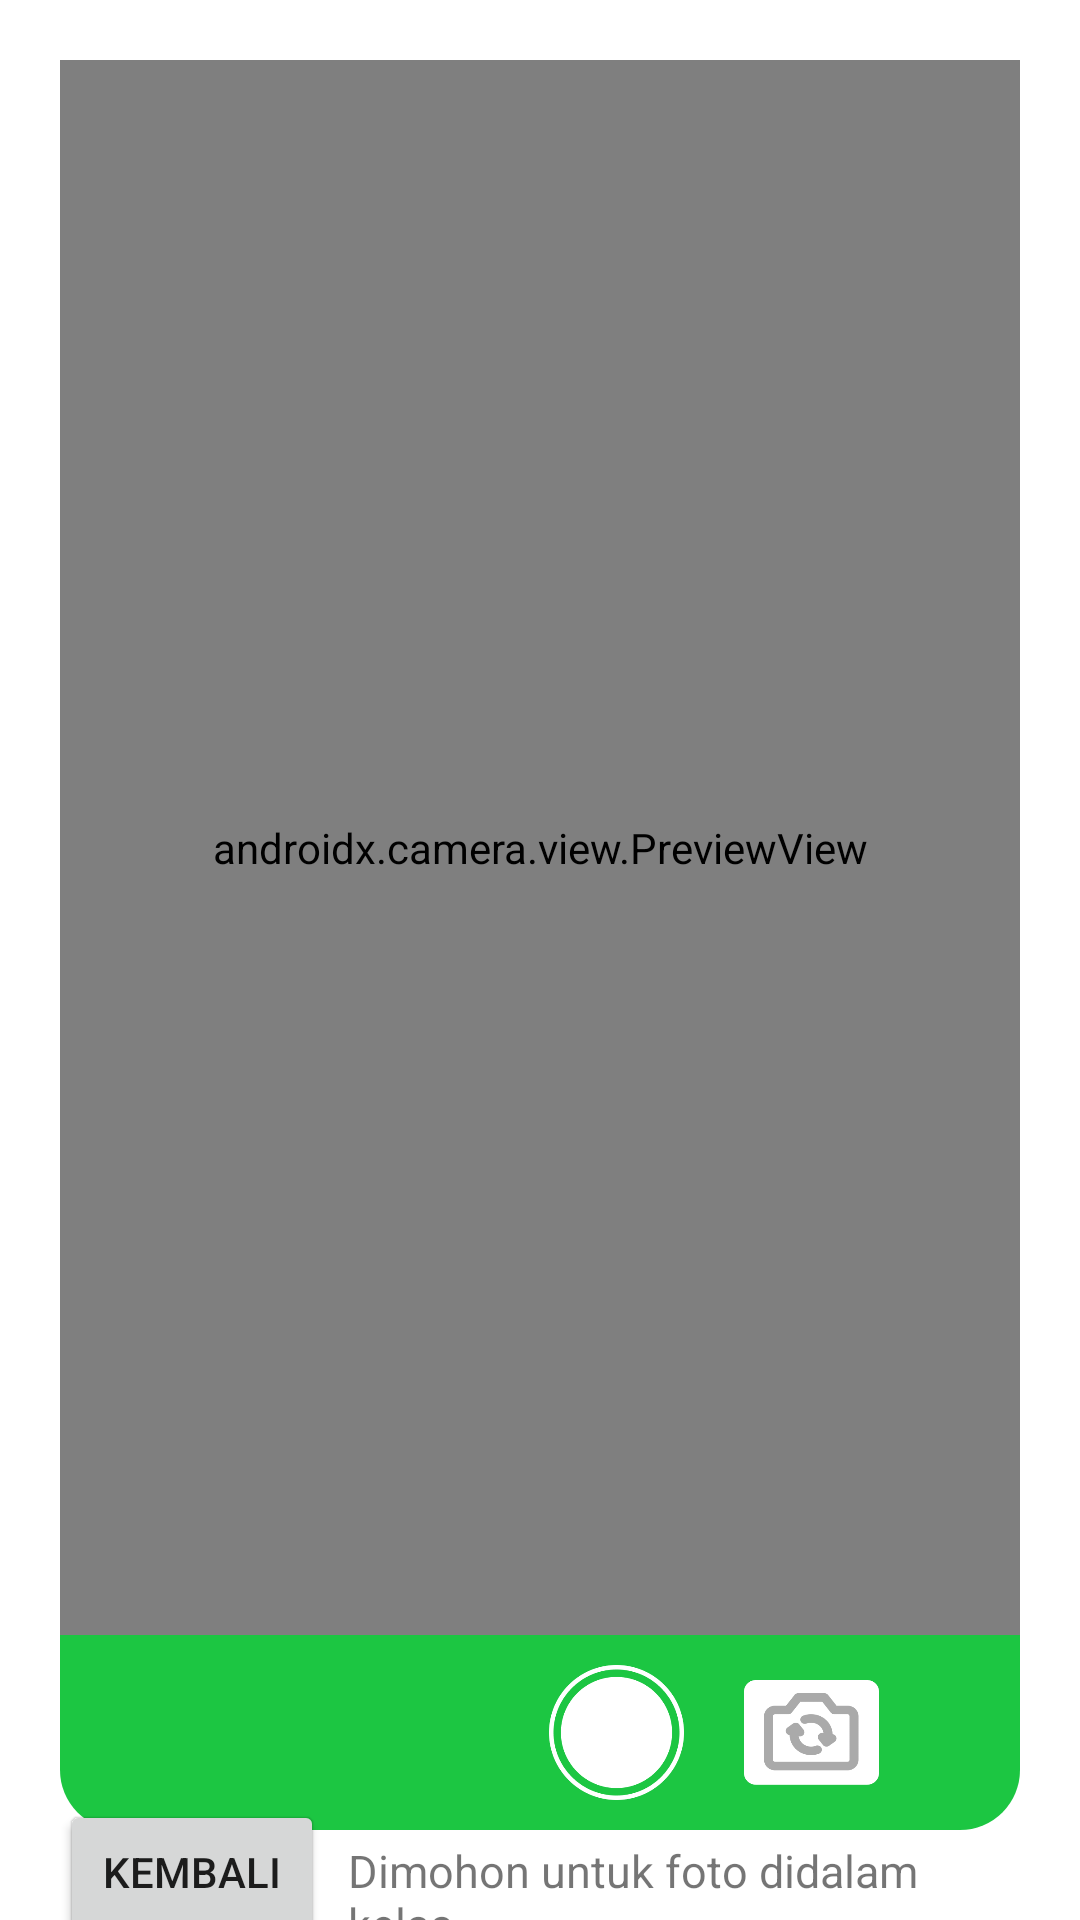

Where icons sit on this 1080 × 1920 app screen, as region(x1, y1, x2, y2):
presensi swap camera: region(744, 1680, 879, 1785)
